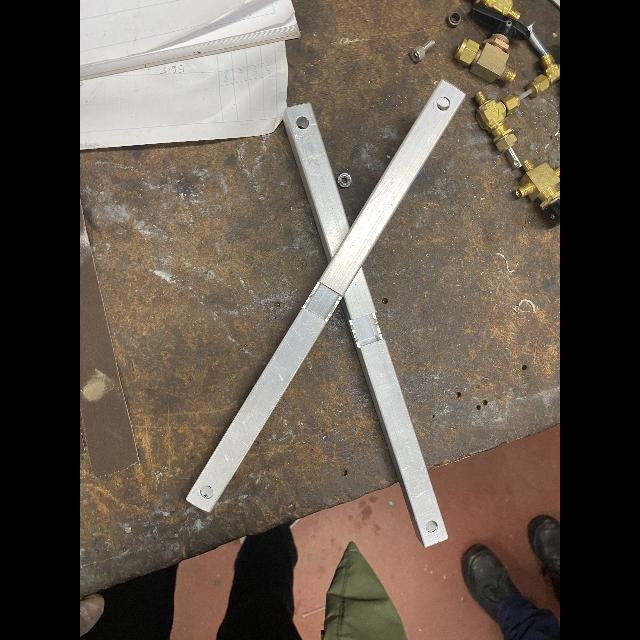Aluminium: (185, 79, 466, 513), (341, 267, 449, 548), (282, 102, 350, 262)
Brass: (454, 33, 517, 83), (477, 90, 520, 152), (516, 160, 560, 209), (527, 53, 560, 97), (474, 0, 520, 18)
Ferrous Metal: (527, 22, 548, 55), (410, 40, 435, 61), (338, 174, 351, 187)
